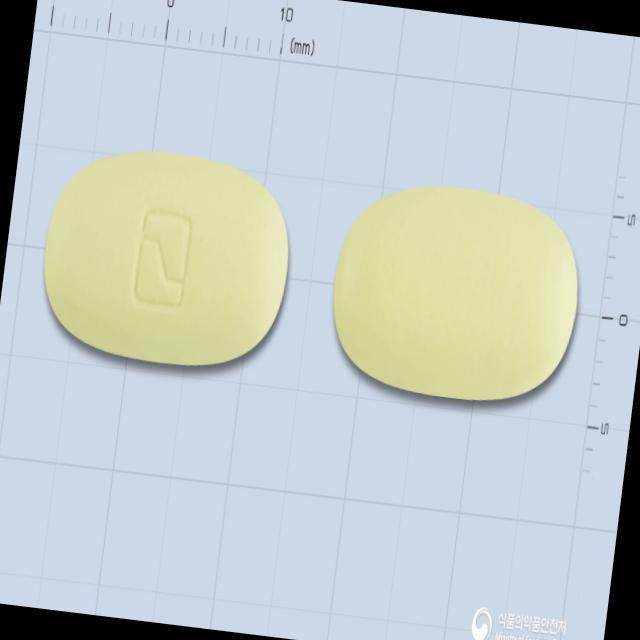Claroma: (32, 135, 302, 381)
